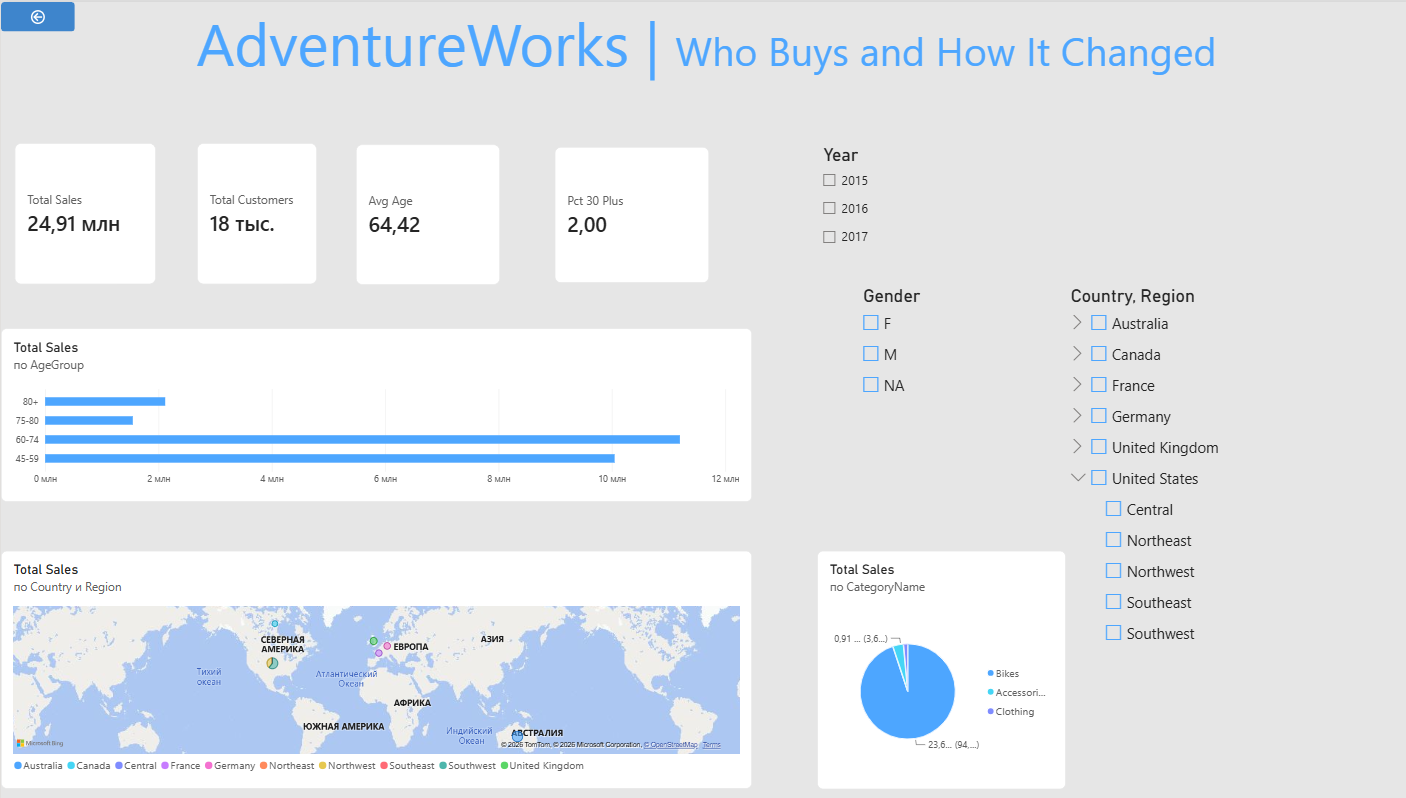

What the dashboard file says about the page in this screenshot:
{"tool":"powerbi","page":{"name":"People","canvas":[1920,1080],"ordinal":0},"visuals":[{"type":"textbox","box":[0,0,1920,106.7],"z":0},{"type":"cardVisual","fields":{"Data":["TABLE.Total Sales"]},"box":[19.2,191.9,191.9,191.9],"z":1000},{"type":"cardVisual","fields":{"Data":["TABLE.Total Customers"]},"box":[265.1,191.9,162.2,191.9],"z":2000},{"type":"cardVisual","fields":{"Data":["TABLE.Avg Age"]},"box":[481.4,193.6,195.3,190.1],"z":3000},{"type":"barChart","fields":{"Category":["AdventureWorks_Customers.AgeGroup"],"Y":["TABLE.Total Sales"]},"box":[0,442.5,1017.5,235],"z":4000},{"type":"map","fields":{"Category":["AdventureWorks_Territories.Country","AdventureWorks_Territories.Region"],"Series":["AdventureWorks_Territories.Region"],"Size":["TABLE.Total Sales"]},"box":[0,744,1017.5,322.5],"z":5000},{"type":"slicer","fields":{"Values":["AdventureWorks_Calendar.Year"]},"box":[1105.8,193.6,784.9,144.8],"z":6000},{"type":"slicer","fields":{"Values":["AdventureWorks_Customers.Gender"]},"box":[1160,384,140,176],"z":7000},{"type":"slicer","fields":{"Values":["AdventureWorks_Territories.Country","AdventureWorks_Territories.Region"]},"box":[1442,384,320,538],"z":8000},{"type":"actionButton","box":[0,0,100,40],"z":8001},{"type":"cardVisual","fields":{"Data":["TABLE.Pct 30 Plus"]},"box":[750,197.1,209.3,184.9],"z":8002},{"type":"pieChart","fields":{"Category":["AdventureWorks_Product_Categories.CategoryName"],"Y":["TABLE.Total Sales"]},"box":[1106.7,743.3,336.7,323.3],"z":8003}]}

Visuals, with their boxes in screenshot pixels (x1, y1, x2, y2), scaled from the page's 1920x1080 canvas onto the 1406x798 screenshot:
textbox: <bbox>0, 0, 1405, 79</bbox>
cardVisual - TABLE.Total Sales: <bbox>14, 142, 155, 284</bbox>
cardVisual - TABLE.Total Customers: <bbox>194, 142, 313, 284</bbox>
cardVisual - TABLE.Avg Age: <bbox>353, 143, 496, 284</bbox>
barChart - AdventureWorks_Customers.AgeGroup x TABLE.Total Sales: <bbox>0, 327, 745, 501</bbox>
map - AdventureWorks_Territories.Country x AdventureWorks_Territories.Region: <bbox>0, 550, 745, 788</bbox>
slicer - AdventureWorks_Calendar.Year: <bbox>810, 143, 1385, 250</bbox>
slicer - AdventureWorks_Customers.Gender: <bbox>849, 284, 952, 414</bbox>
slicer - AdventureWorks_Territories.Country x AdventureWorks_Territories.Region: <bbox>1056, 284, 1290, 681</bbox>
actionButton: <bbox>0, 0, 73, 30</bbox>
cardVisual - TABLE.Pct 30 Plus: <bbox>549, 146, 702, 282</bbox>
pieChart - AdventureWorks_Product_Categories.CategoryName x TABLE.Total Sales: <bbox>810, 549, 1057, 788</bbox>
